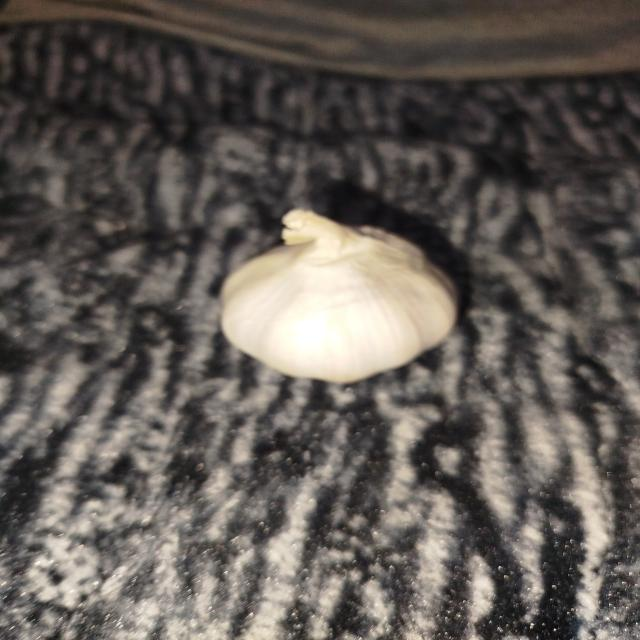garlic: (219, 208, 459, 384)
